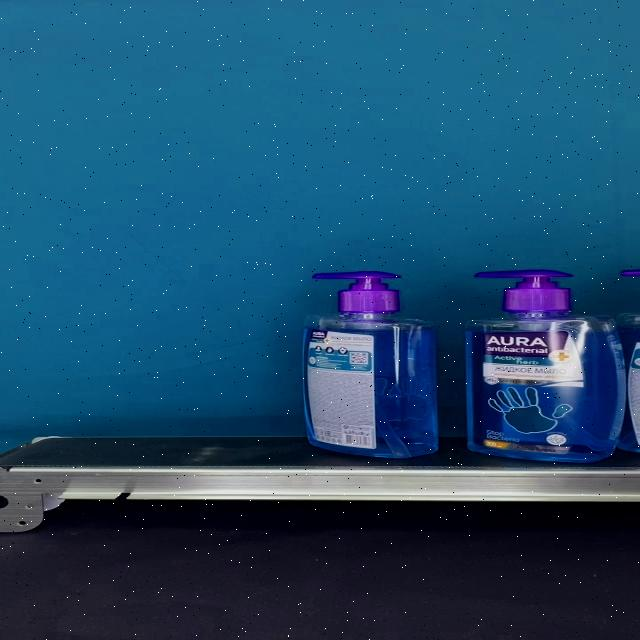Bottle: (464, 270, 626, 462), (300, 271, 439, 458)
Cap: (474, 270, 573, 312), (312, 271, 401, 312)
